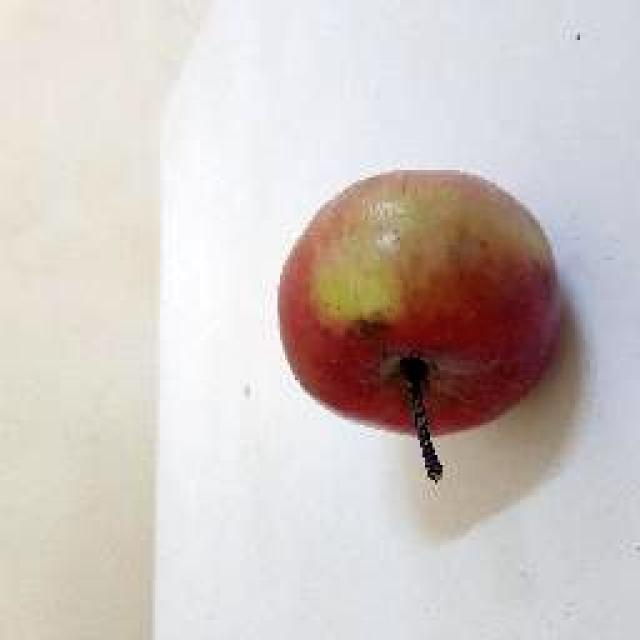Good_Apple: (275, 170, 565, 482)
